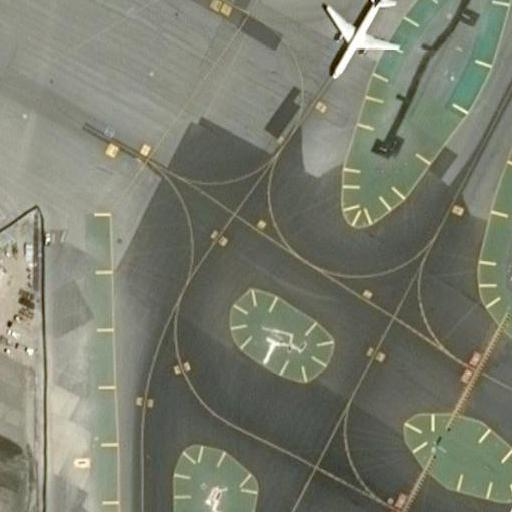Aircraft: (318, 0, 399, 79)
